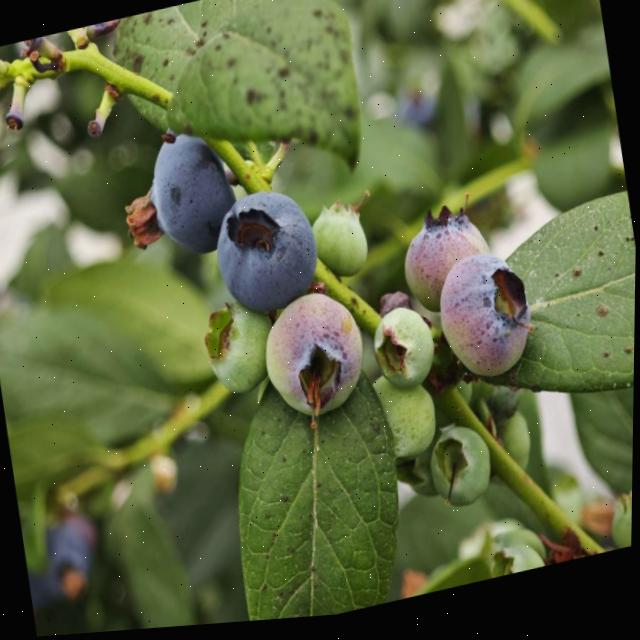RipeBlueBerry: (210, 182, 326, 326), (144, 123, 244, 269)
Semi-RipeBlueBerry: (259, 287, 375, 435), (437, 252, 541, 396), (397, 211, 502, 322)
UnripeBlueBerry: (200, 297, 281, 405), (369, 306, 444, 404), (425, 426, 500, 524), (307, 201, 374, 289)
